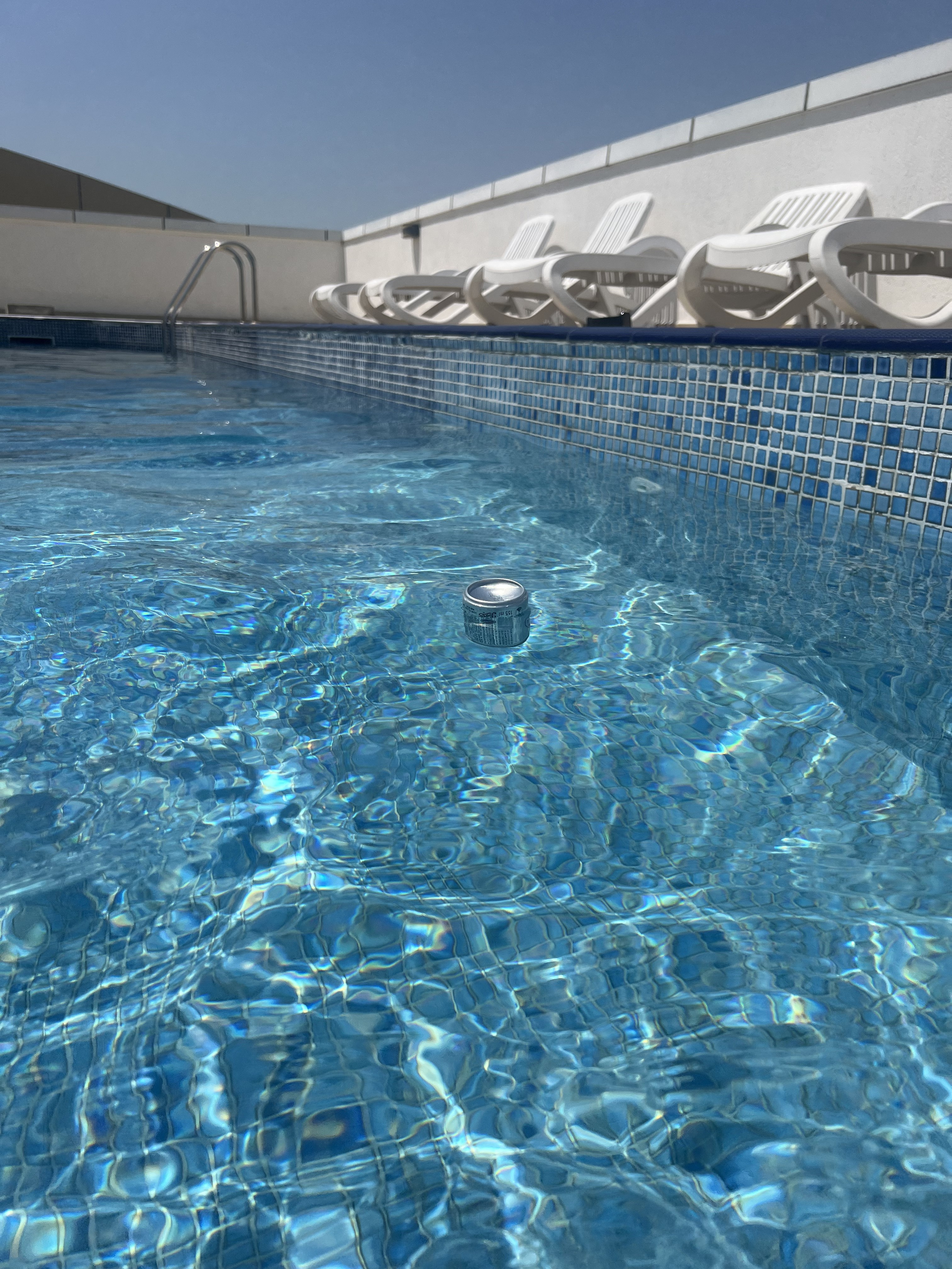debris: (458, 560, 533, 666)
